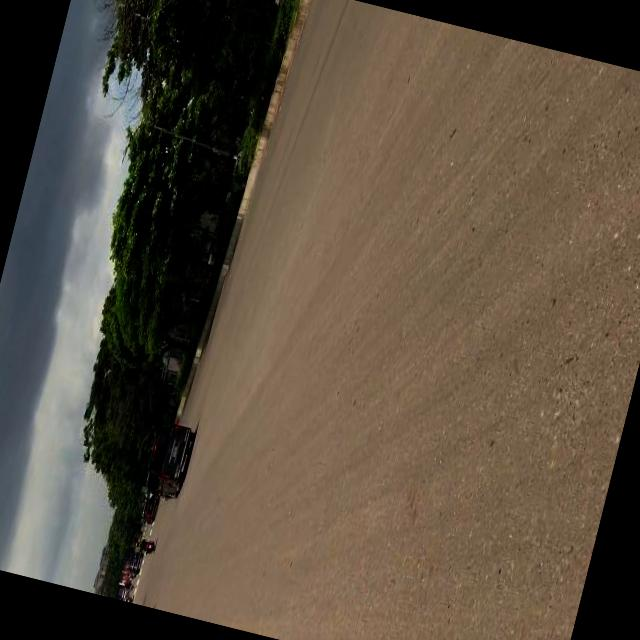car: (138, 496, 159, 528), (126, 552, 141, 576)
motorcycle: (132, 536, 156, 556), (119, 594, 132, 602), (121, 582, 131, 592)
truck: (138, 420, 196, 505)
